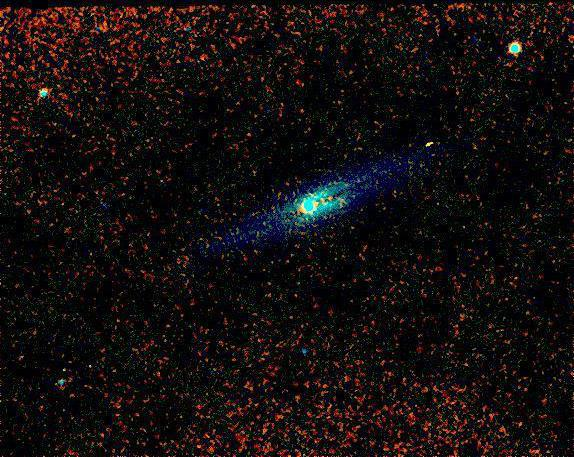star: (316, 186, 346, 216)
